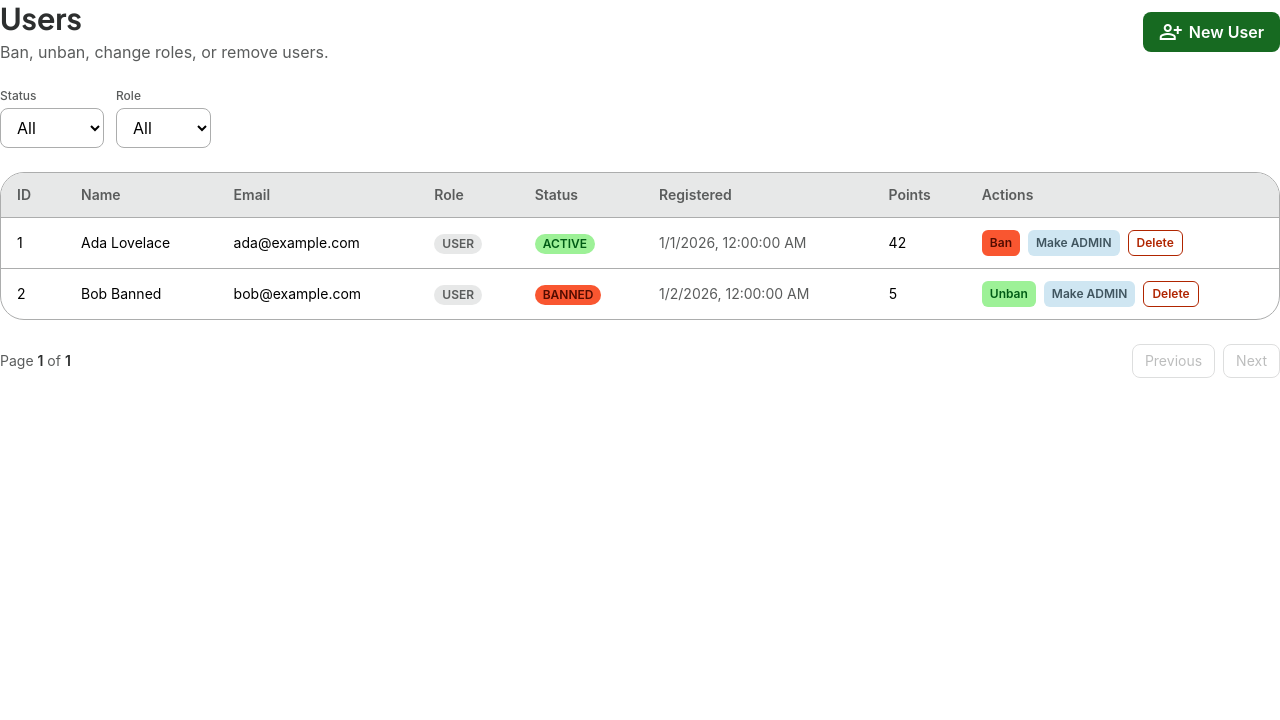
Scenario: AdminUsersPage › shows mutation errors from ban failures
Check: the text "Ada Lovelace" is shown, box left=65, top=218, right=218, bottom=268
Click the button "Ban".
click(1001, 243)  # box left=982, top=230, right=1020, bottom=256
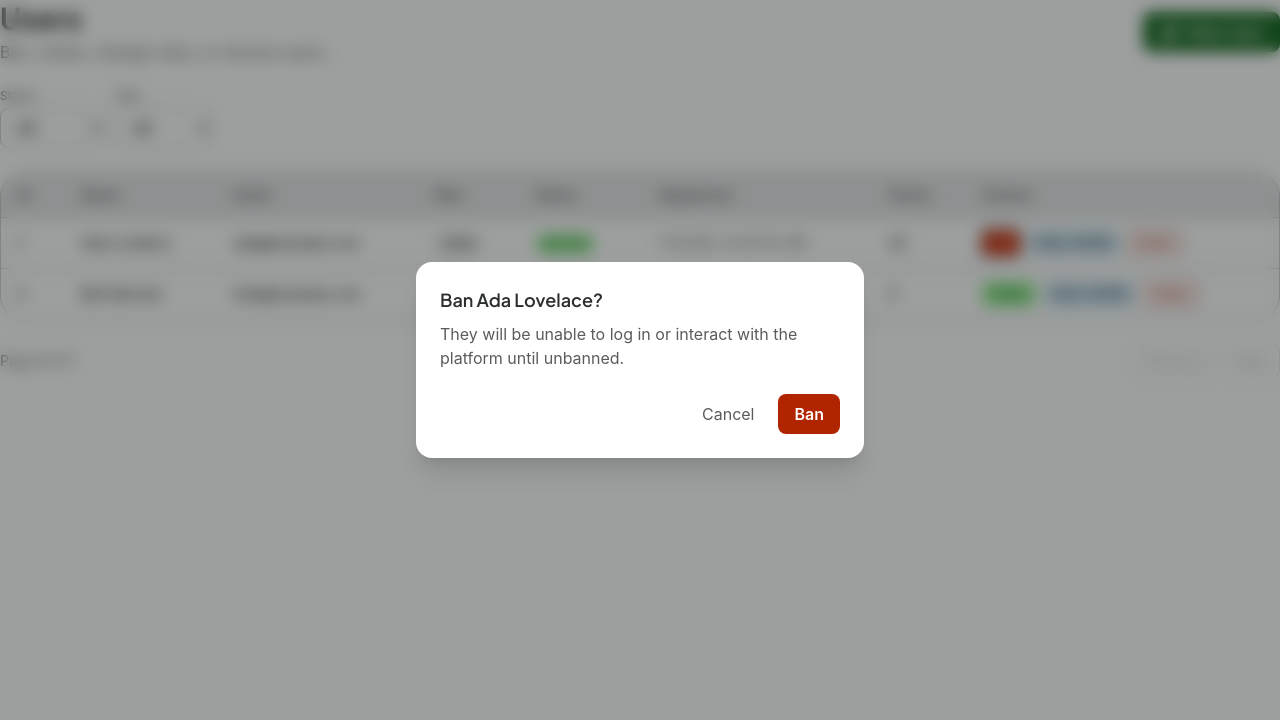
Click the button "Ban".
click(809, 414)  # box left=778, top=394, right=840, bottom=434
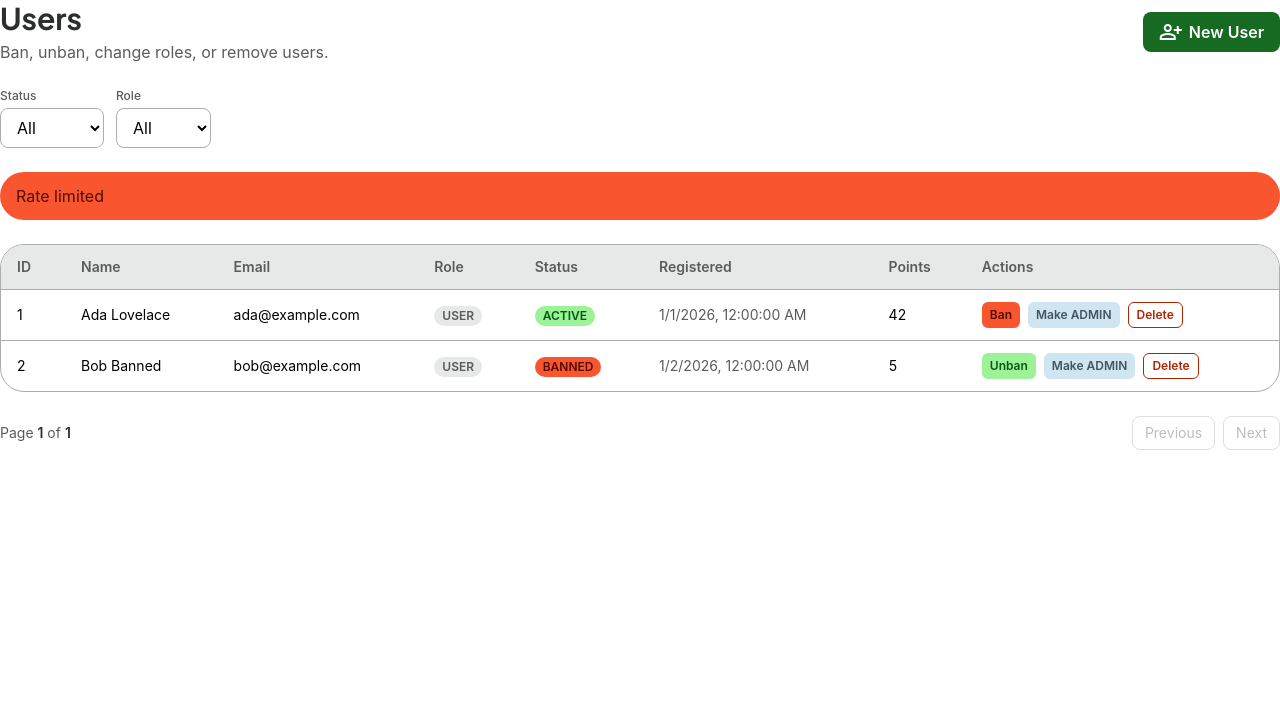
Check: the text "Rate limited" is shown, box left=0, top=172, right=1279, bottom=220
